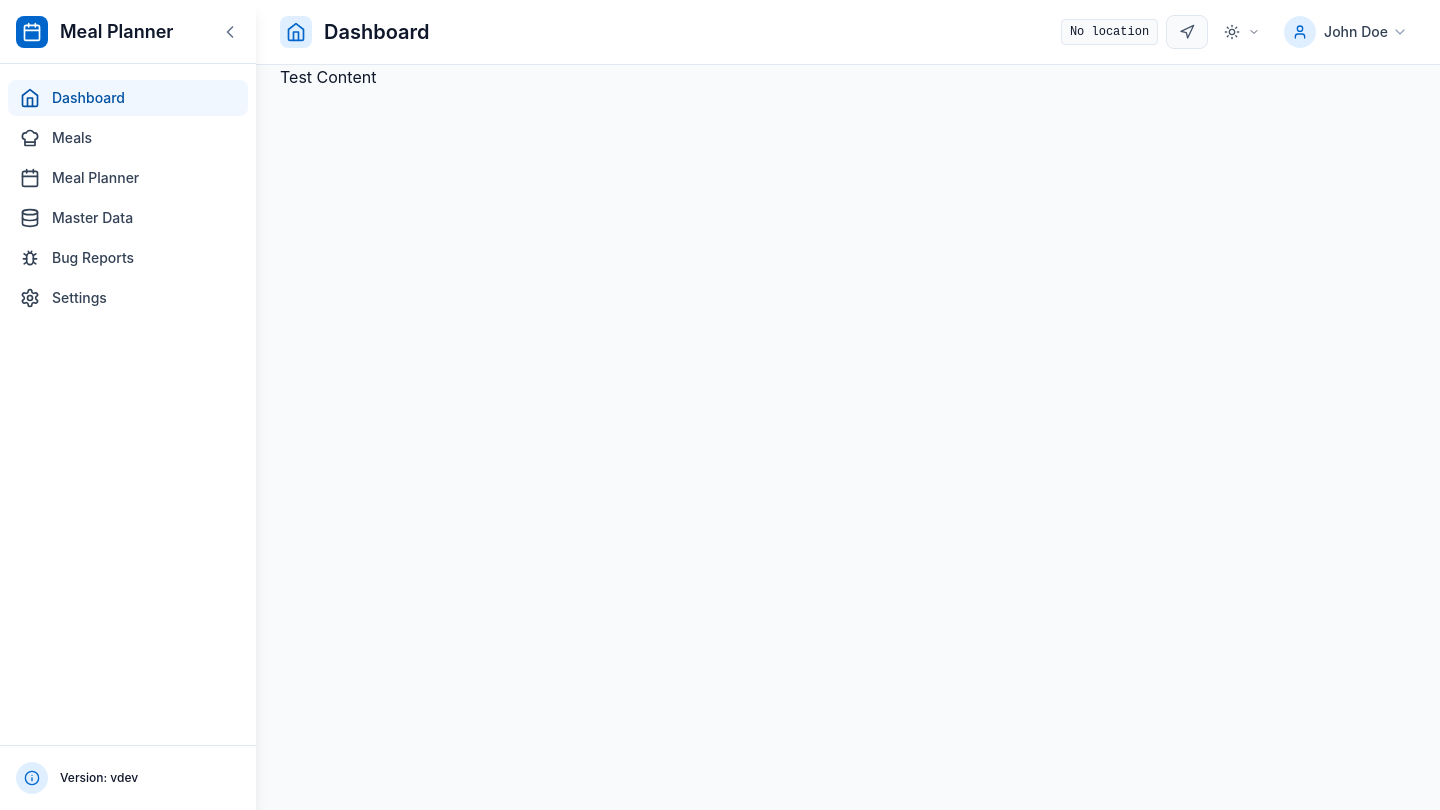
Test: Layout Component › User Menu › opens user menu when clicked
Click the button "John Doe": (1346, 32) top-left (1276, 8), bottom-right (1416, 56)
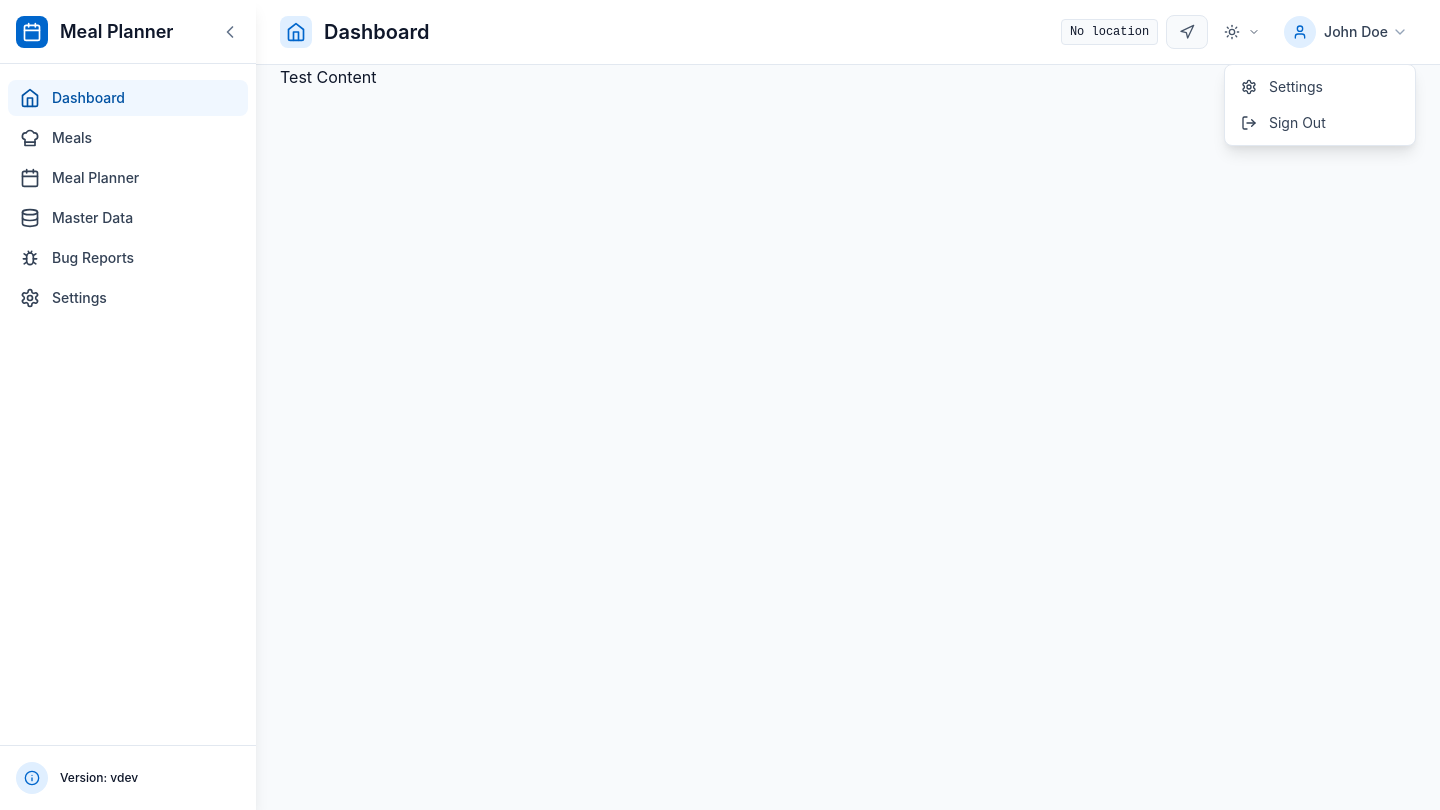
Expected: the text "Settings" is shown, top-left (52, 288), bottom-right (107, 308)
Now the button "Sign Out" is shown, box top-left (1225, 105), bottom-right (1415, 141)
